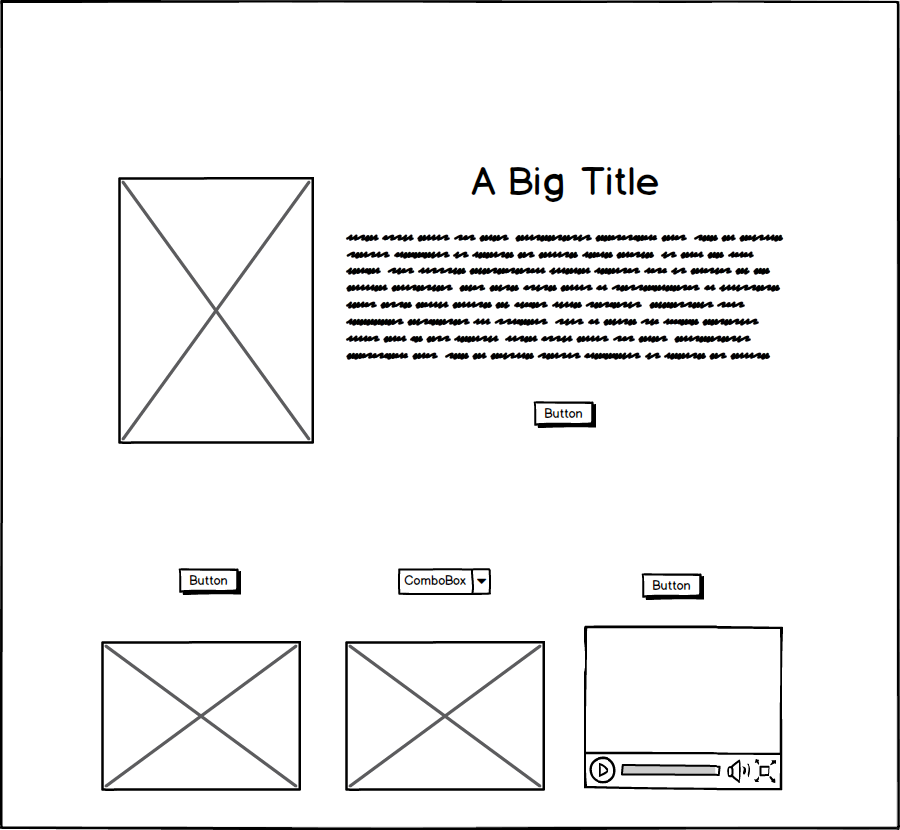button: (528, 396, 604, 434), (173, 564, 250, 600), (637, 567, 711, 604)
h1: (461, 161, 670, 209)
image: (111, 171, 318, 448), (90, 638, 309, 797), (342, 637, 551, 795)
p: (337, 225, 793, 376)
select_box: (388, 561, 499, 599)
video: (573, 620, 796, 801)
